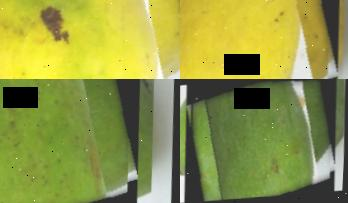Ripe: (0, 0, 180, 79), (180, 0, 336, 79)
Unripe: (185, 79, 334, 203), (0, 79, 137, 203)
